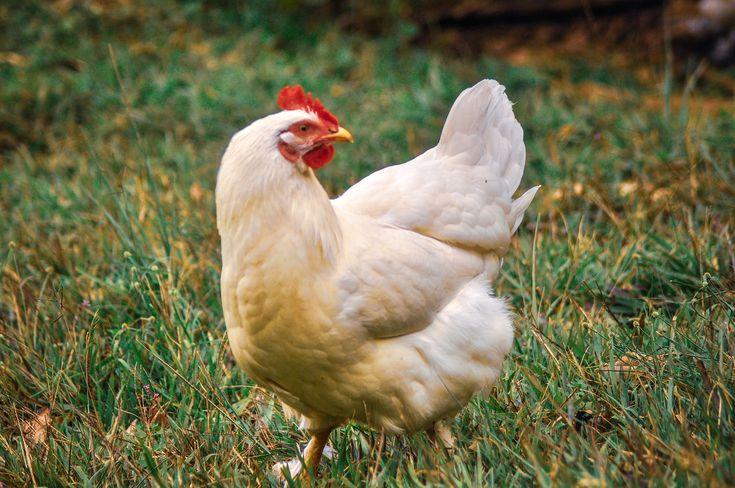chicken: (209, 91, 526, 453)
